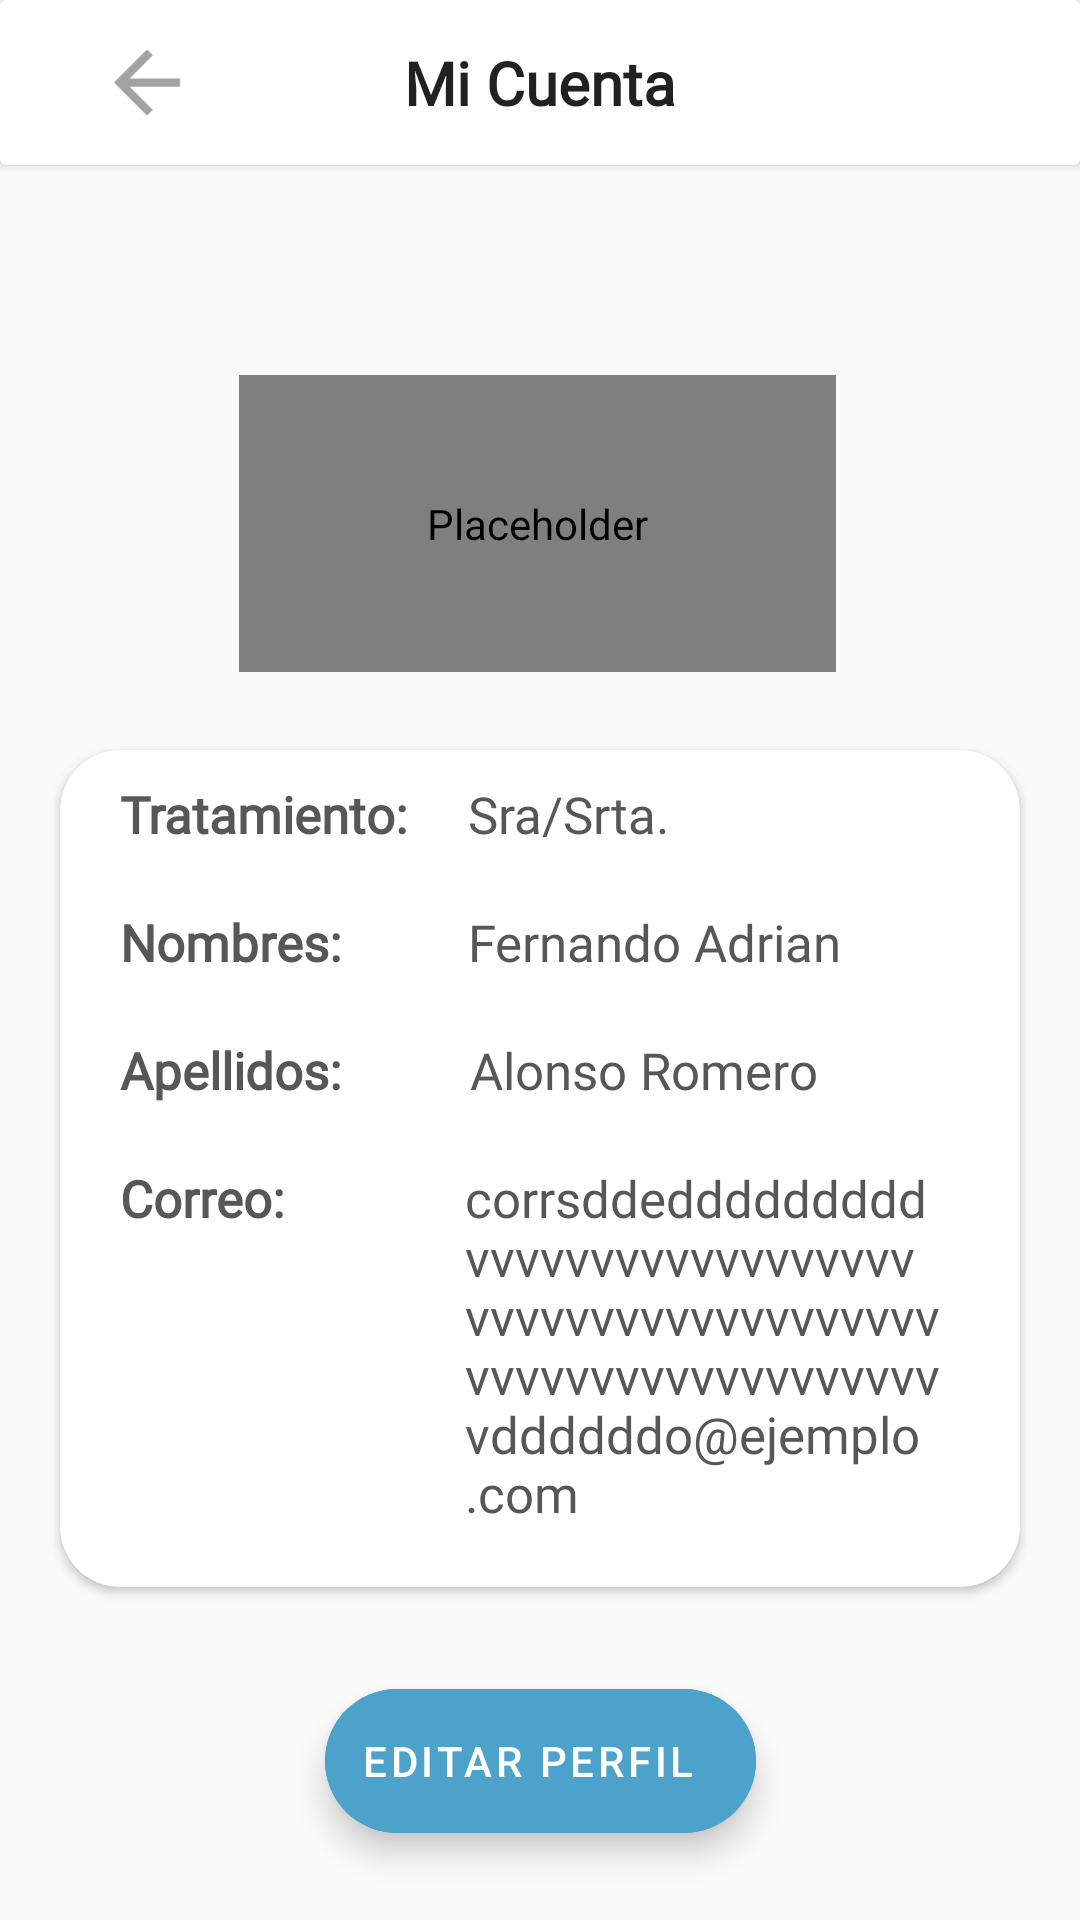

Where to tap for icons on this 1080×1920 app screen, as (x=x, y=y):
atras: (x=147, y=82)
